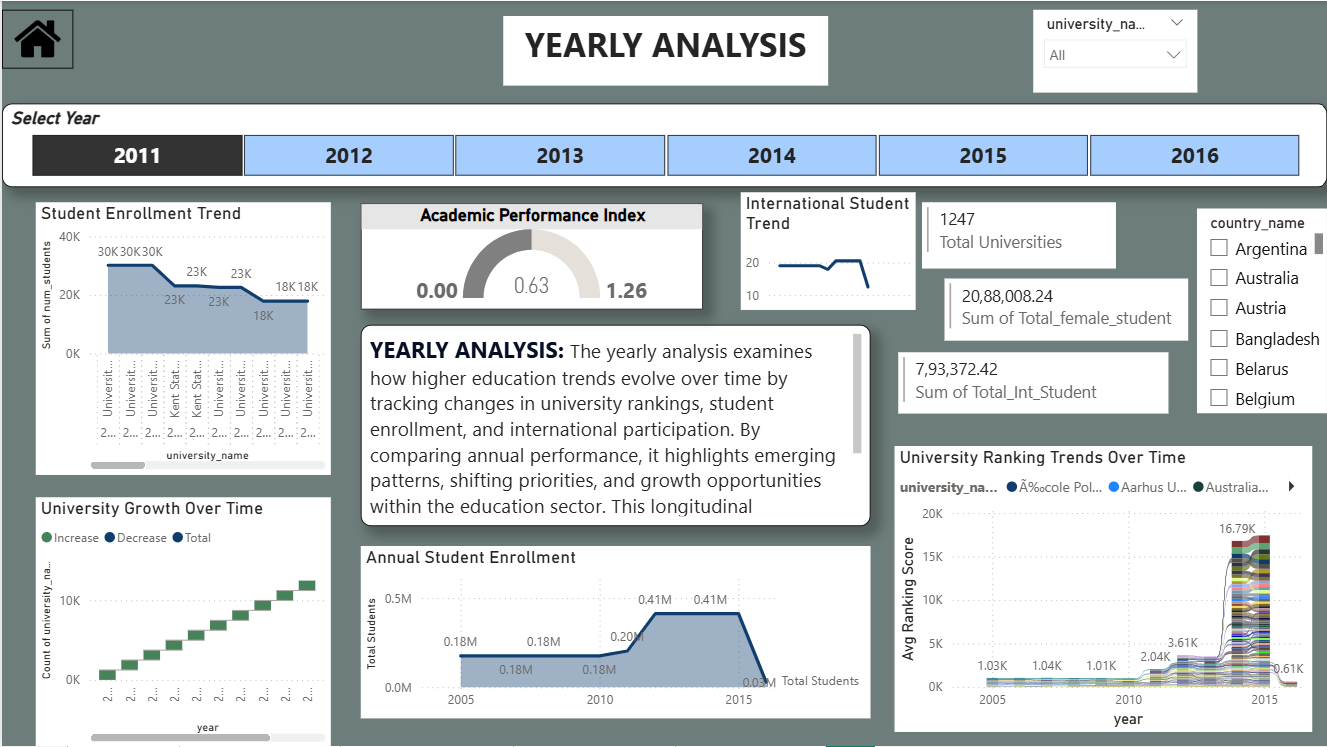

The dashboard page shown, as its layout file describes it:
{"tool":"powerbi","page":{"name":"Yearly Analysis","canvas":[1280,720],"ordinal":4},"visuals":[{"type":"textbox","box":[346.2,312.5,492.2,194.2],"z":0},{"type":"textbox","box":[483.2,14.3,313.6,67],"z":1000},{"type":"slicer","title":"Select Year","fields":{"Values":["university_year.year"]},"box":[0,98.9,1280,80.8],"z":2000},{"type":"multiRowCard","fields":{"Values":["Table.Total Universities"]},"box":[887.9,194.2,187,63.9],"z":3000},{"type":"multiRowCard","fields":{"Values":["Sum(university_year.Total_female_student)"]},"box":[909.7,267.8,235.3,60.3],"z":4000},{"type":"multiRowCard","fields":{"Values":["Sum(university_year.Total_Int_Student)"]},"box":[865,339,260.6,59.1],"z":5000},{"type":"lineChart","title":"Student Enrollment Trend","fields":{"Category":["university_ranking_year.year","university.university_name"],"Y":["Sum(university_year.num_students)"]},"box":[32.6,194.2,284.7,263],"z":6000},{"type":"waterfallChart","title":"University Growth Over Time","fields":{"Category":["university_ranking_year.year"],"Y":["CountNonNull(university.university_name)"]},"box":[32.6,479,284.7,241.3],"z":7000},{"type":"areaChart","title":"Annual Student Enrollment","fields":{"Category":["university_ranking_year.year"],"Y":["Table.Total Students"]},"box":[346.2,526,492.2,166.5],"z":8000},{"type":"ribbonChart","title":"University Ranking Trends Over Time","fields":{"Series":["university.university_name"],"Category":["university_ranking_year.year"],"Y":["Table.Avg Ranking Score"]},"box":[861.4,429.5,403,276.3],"z":9000},{"type":"gauge","title":"Academic Performance Index","fields":{"Y":["country.score and student_staff_ratio correlation for year"]},"box":[346.2,195.4,330.6,102.5],"z":10000},{"type":"lineChart","title":"International Student Trend","fields":{"Category":["university_ranking_year.year"],"Y":["Table.Avg International %"]},"box":[713,184.6,168.9,113.4],"z":11000},{"type":"slicer","fields":{"Values":["university.university_name"]},"box":[995.3,8.4,158,79.6],"z":12000},{"type":"slicer","fields":{"Values":["country.country_name"]},"box":[1153.4,200.3,126.7,197.9],"z":13000},{"type":"image","box":[0,8.4,68.8,56.7],"z":14000}]}

Visuals, with their boxes in screenshot pixels (x1, y1, x2, y2), scaled from the page's 1280x720 canvas onto the 1327x747 screenshot:
textbox: {"left": 359, "top": 324, "right": 869, "bottom": 526}
textbox: {"left": 501, "top": 15, "right": 826, "bottom": 84}
"Select Year" slicer: {"left": 0, "top": 103, "right": 1326, "bottom": 186}
multiRowCard - Table.Total Universities: {"left": 921, "top": 201, "right": 1114, "bottom": 268}
multiRowCard - Sum(university_year.Total_female_student): {"left": 943, "top": 278, "right": 1187, "bottom": 340}
multiRowCard - Sum(university_year.Total_Int_Student): {"left": 897, "top": 352, "right": 1167, "bottom": 413}
"Student Enrollment Trend" lineChart: {"left": 34, "top": 201, "right": 329, "bottom": 474}
"University Growth Over Time" waterfallChart: {"left": 34, "top": 497, "right": 329, "bottom": 746}
"Annual Student Enrollment" areaChart: {"left": 359, "top": 546, "right": 869, "bottom": 718}
"University Ranking Trends Over Time" ribbonChart: {"left": 893, "top": 446, "right": 1311, "bottom": 732}
"Academic Performance Index" gauge: {"left": 359, "top": 203, "right": 702, "bottom": 309}
"International Student Trend" lineChart: {"left": 739, "top": 192, "right": 914, "bottom": 309}
slicer - university.university_name: {"left": 1032, "top": 9, "right": 1196, "bottom": 91}
slicer - country.country_name: {"left": 1196, "top": 208, "right": 1326, "bottom": 413}
image: {"left": 0, "top": 9, "right": 71, "bottom": 68}
